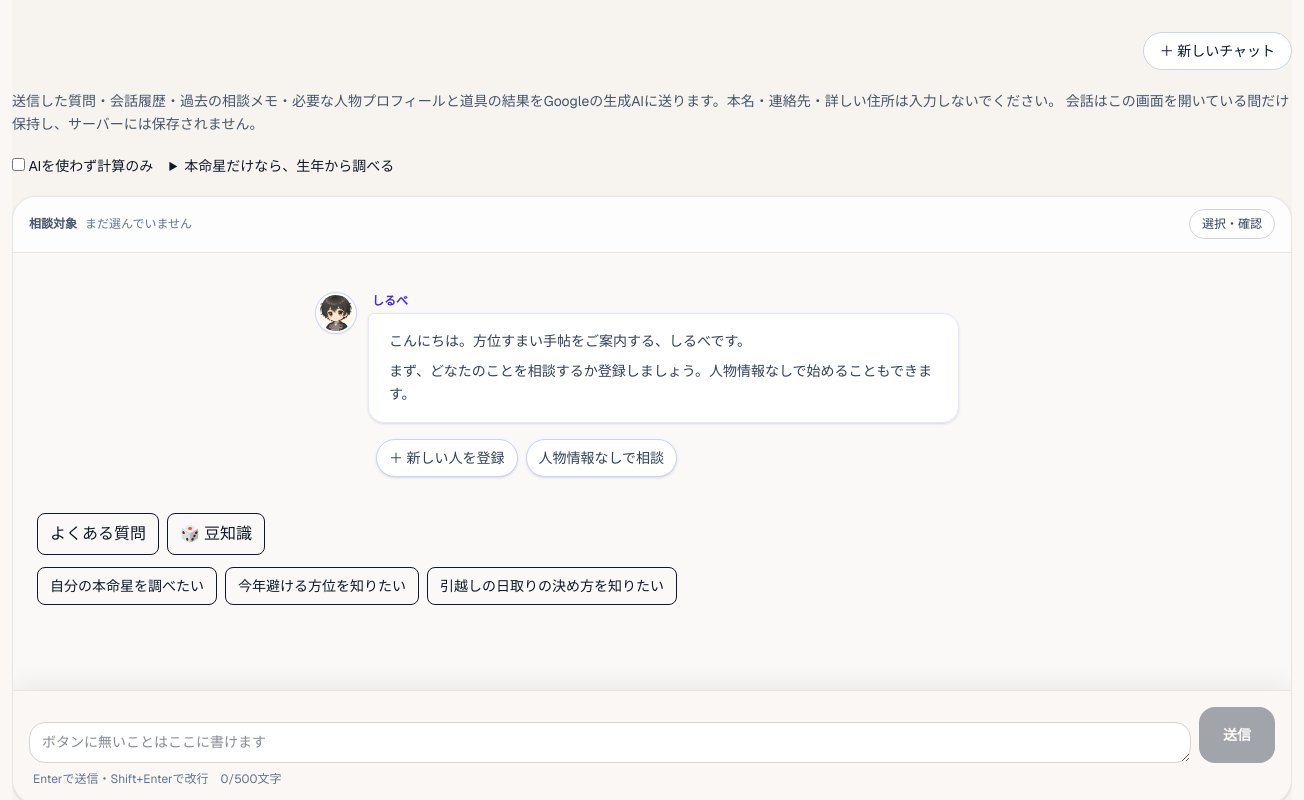
保存の提案カード › 会話の鍵を送り、サーバーの文面と保存項目を出し、2 つのボタンは同じ見た目
Click the button "人物情報なしで相談".
click(601, 458)  # box [526,439,677,477]
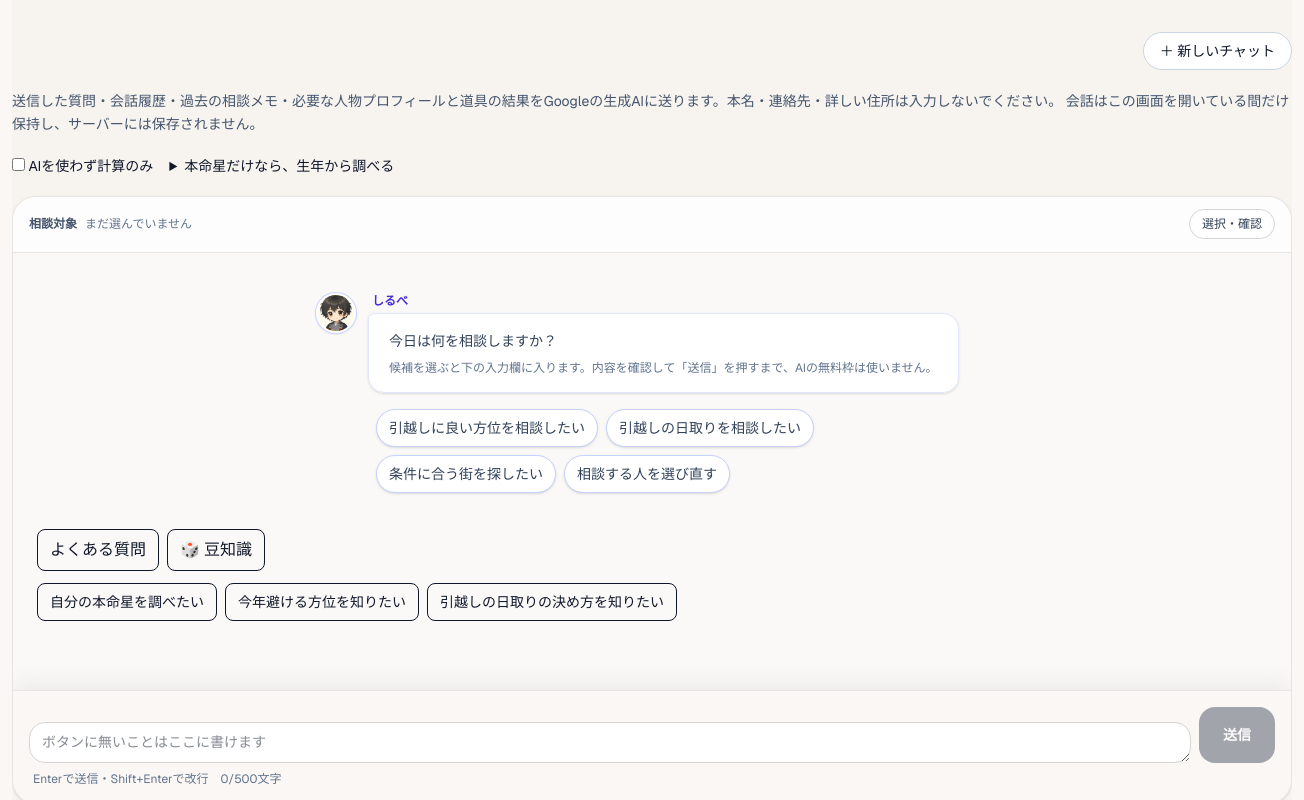
Type "1990年5月5日生まれ、深谷市から東は？" into the text box named "メッセージ".
click(610, 742); type("1990年5月5日生まれ、深谷市から東は？")  # box [29,722,1191,763]
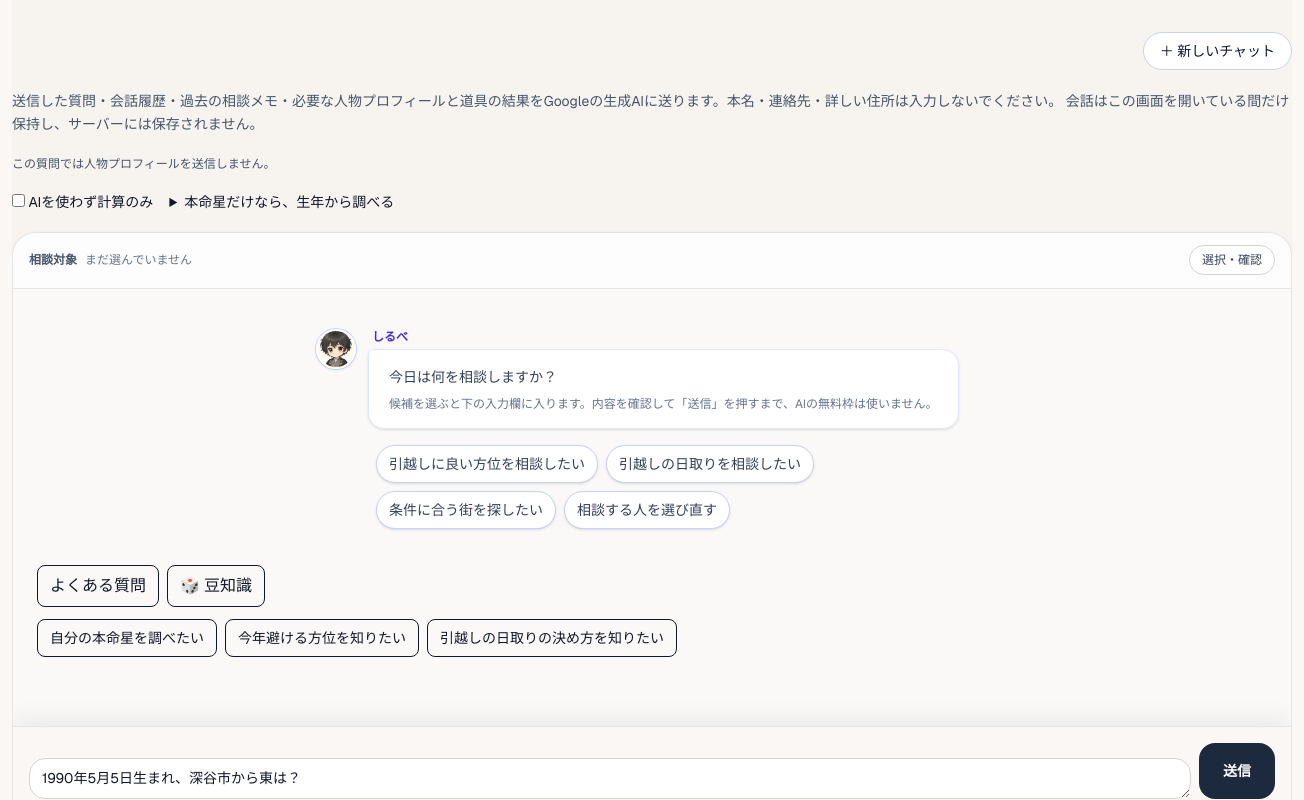
Click the button "送信".
click(1237, 770)  # box [1199,742,1275,798]
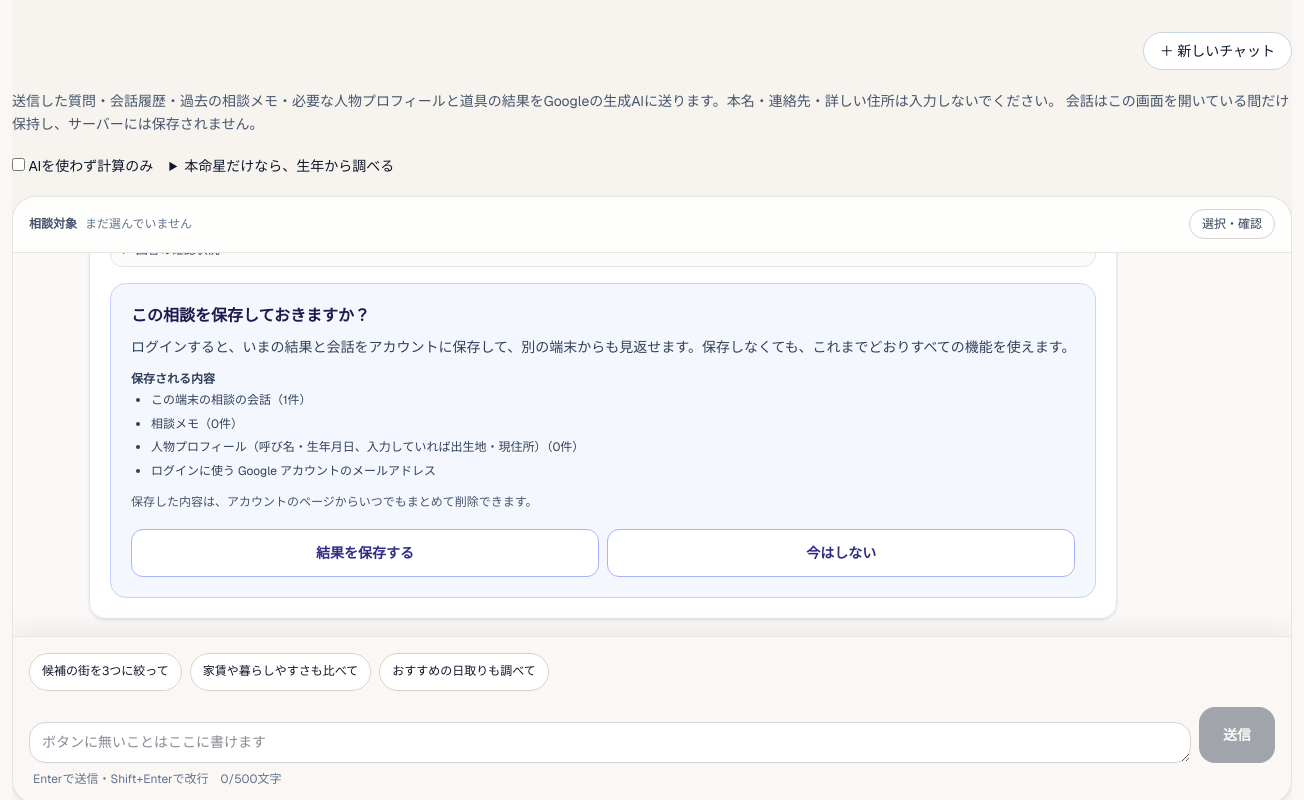
Now the number of headings "この相談を保存しておきますか？" is 1, box [131,305,370,326]
Now the text "保存される内容" is shown, box [131,371,215,387]
Now the list item "ログインに使う Google アカウントのメールアドレス" is shown, box [151,462,436,478]
